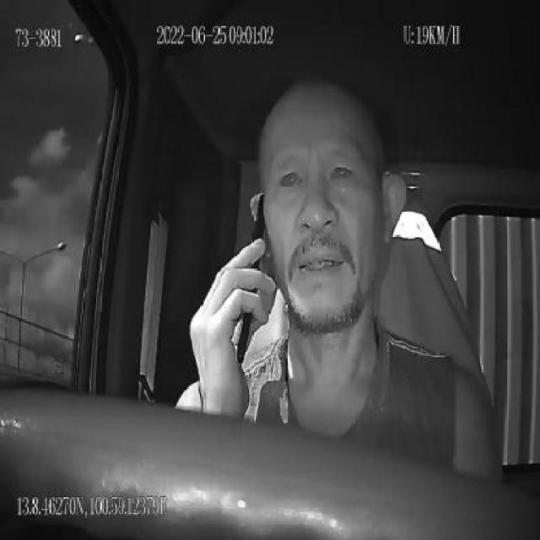phone: (235, 192, 266, 367)
